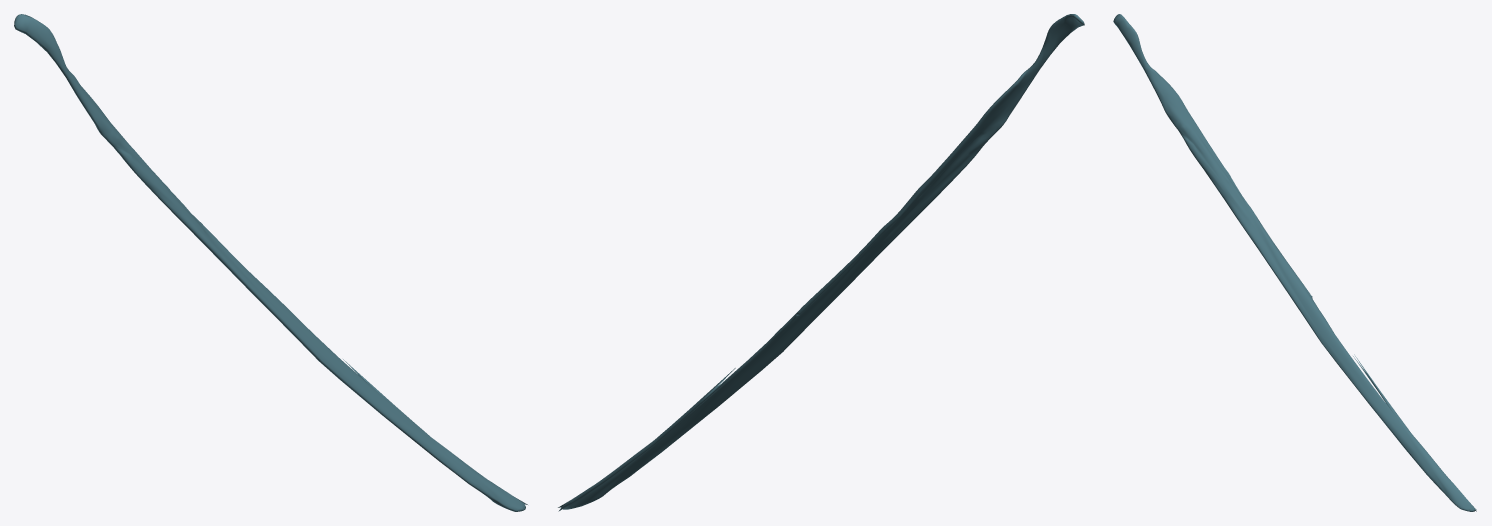
Rendered from External_abdominal_oblique_on_inguinal_ligament.r_Generated_Mes.glb.
3 views of the same model, side by side, from view 1: azimuth 30°, elevation 25°; view 2: azimuth 150°, elevation 25°; view 3: azimuth 330°, elevation 25° (orthographic). The views are drawn at different scales.
Parts seen in each view (by area): view 1: External_abdominal_oblique_on_inguinal_ligament.r_Generated_; view 2: External_abdominal_oblique_on_inguinal_ligament.r_Generated_; view 3: External_abdominal_oblique_on_inguinal_ligament.r_Generated_.
Part boxes in pixels (x1,y1,x2,y2): External_abdominal_oblique_on_inguinal_ligament.r_Generated_: [14, 14, 527, 511]; External_abdominal_oblique_on_inguinal_ligament.r_Generated_: [558, 14, 1084, 511]; External_abdominal_oblique_on_inguinal_ligament.r_Generated_: [1113, 14, 1476, 511].
Size of the model in its own units: 0.0689 by 0.0784 by 0.00498.
